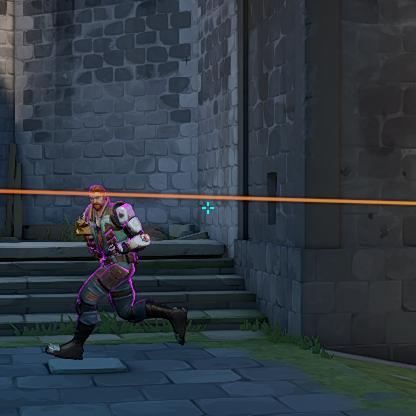enemyBody: (93, 213, 127, 260)
enemyHead: (91, 190, 104, 207)
